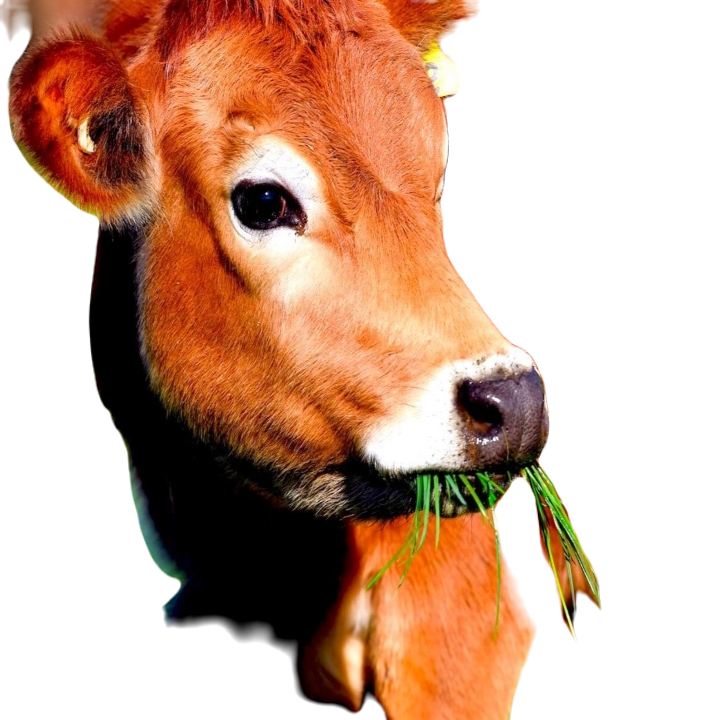Cow: (9, 0, 555, 704)
